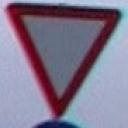preferencia: (6, 2, 122, 118)
